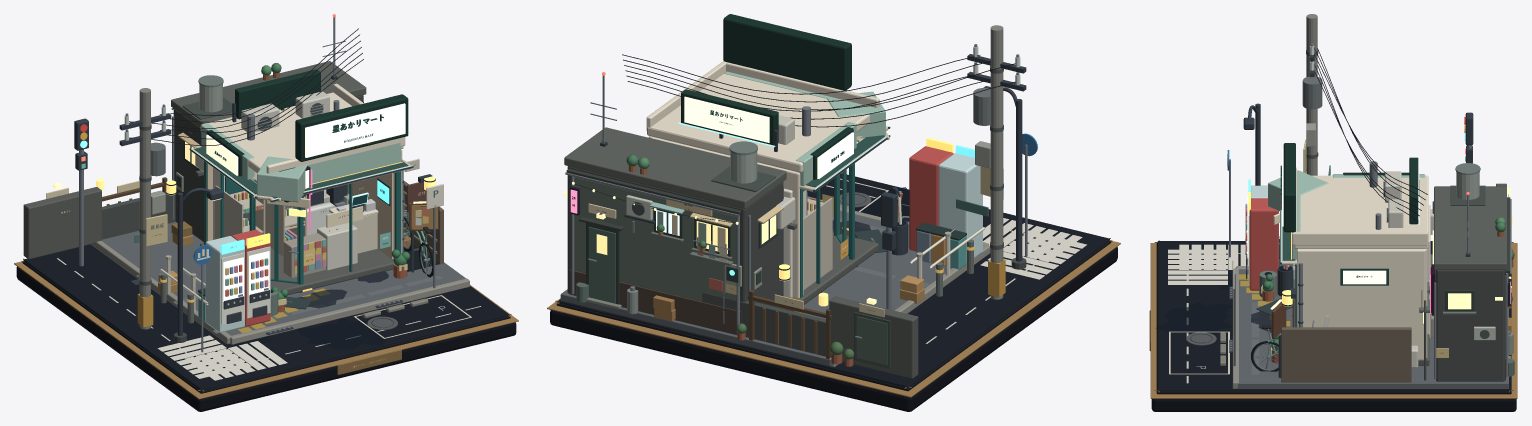
The picture shows the model from 3 angles, left to right: view 1: azimuth 30°, elevation 25°; view 2: azimuth 150°, elevation 25°; view 3: azimuth 270°, elevation 25°; orthographic projection. The views are drawn at different scales.
Parts seen in each view (by area): view 1: Base_Asphalt, Base_Plinth, Sidewalk_Main, BackWall, Base_BrassBand, Sign_LightFace, Roof_Slab, Neighbor_Block, Store_Plinth, Curb_Front, Store_RearSignCabinet, UtilityPole (+39 smaller); view 2: Base_Asphalt, Rear_Siding, Base_Plinth, Neighbor_Parapet, Roof_Slab, Sign_Cabinet, Sidewalk_Main, Neighbor_Block, Base_BrassBand, BackWall, Vending_Cyan_Body, UtilityPole (+32 smaller); view 3: Base_Asphalt, Wall_Right, Alley_Fence, Neighbor_Block, Roof_Slab, Neighbor_Parapet, Sidewalk_Main, Base_Plinth, Base_BrassBand, Vending_Red_Body, Roof_Parapet_Right, Base_TopPlate (+18 smaller).
Boxes of the visible parts, x1,y1,x2,y2 form: Base_Asphalt: (23,244,509,390); Base_Plinth: (16,266,516,411); Sidewalk_Main: (102,221,465,335); BackWall: (23,187,101,259); Base_BrassBand: (14,261,518,399); Sign_LightFace: (305,103,405,157); Roof_Slab: (200,92,403,173); Neighbor_Block: (173,95,363,241); Store_Plinth: (200,243,393,294); Curb_Front: (230,278,469,344); Store_RearSignCabinet: (235,69,320,119); UtilityPole: (139,88,150,329); Base_Asphalt: (558,173,1109,387); Rear_Siding: (574,177,736,301); Base_Plinth: (550,246,1117,411); Neighbor_Parapet: (564,127,786,208); Roof_Slab: (647,73,869,172); Sign_Cabinet: (723,14,851,90); Sidewalk_Main: (560,211,951,366); Neighbor_Block: (567,166,783,307); Base_BrassBand: (547,241,1120,397); BackWall: (829,296,918,378); Vending_Cyan_Body: (938,153,982,262); UtilityPole: (990,25,1003,299); Base_Asphalt: (1157,241,1510,391); Wall_Right: (1297,248,1425,365); Alley_Fence: (1281,327,1411,382); Neighbor_Block: (1436,270,1504,381); Roof_Slab: (1294,175,1428,248); Neighbor_Parapet: (1434,186,1506,269); Sidewalk_Main: (1236,269,1508,388); Base_Plinth: (1151,399,1516,411); Base_BrassBand: (1150,243,1517,398); Vending_Red_Body: (1249,198,1278,290); Roof_Parapet_Right: (1295,231,1428,245); Base_TopPlate: (1156,243,1511,394).
Size of the model in its own units: 7.46 by 6.37 by 7.49.
